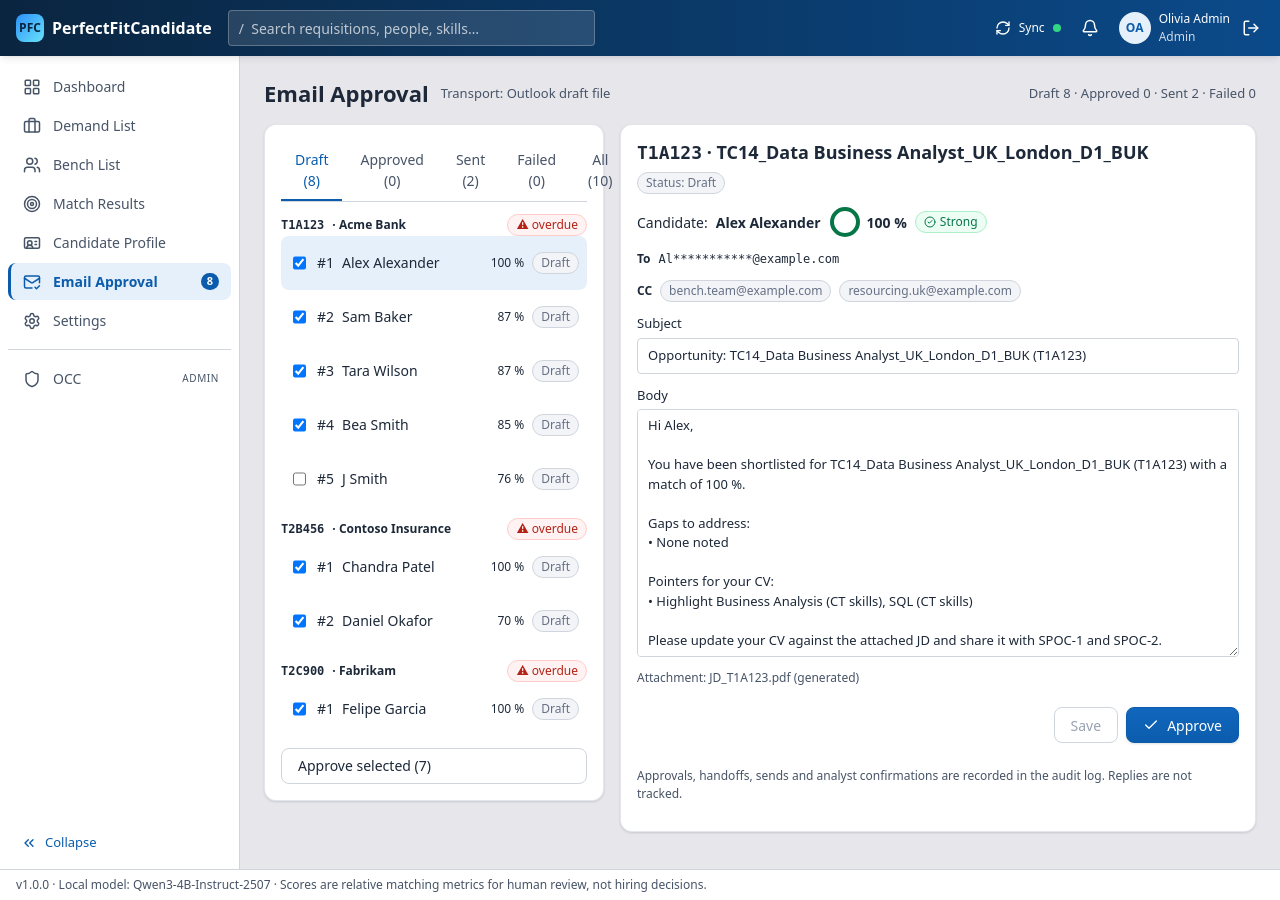
pages › pre-selects the top 4 of 5 and approves per profile (REQ-EML-01)
Expected: the button "Open in Outlook" is not shown
Click the button with aria-label "Approve email to".
click(1183, 725)  # box x1=1126 y1=707 x2=1239 y2=743
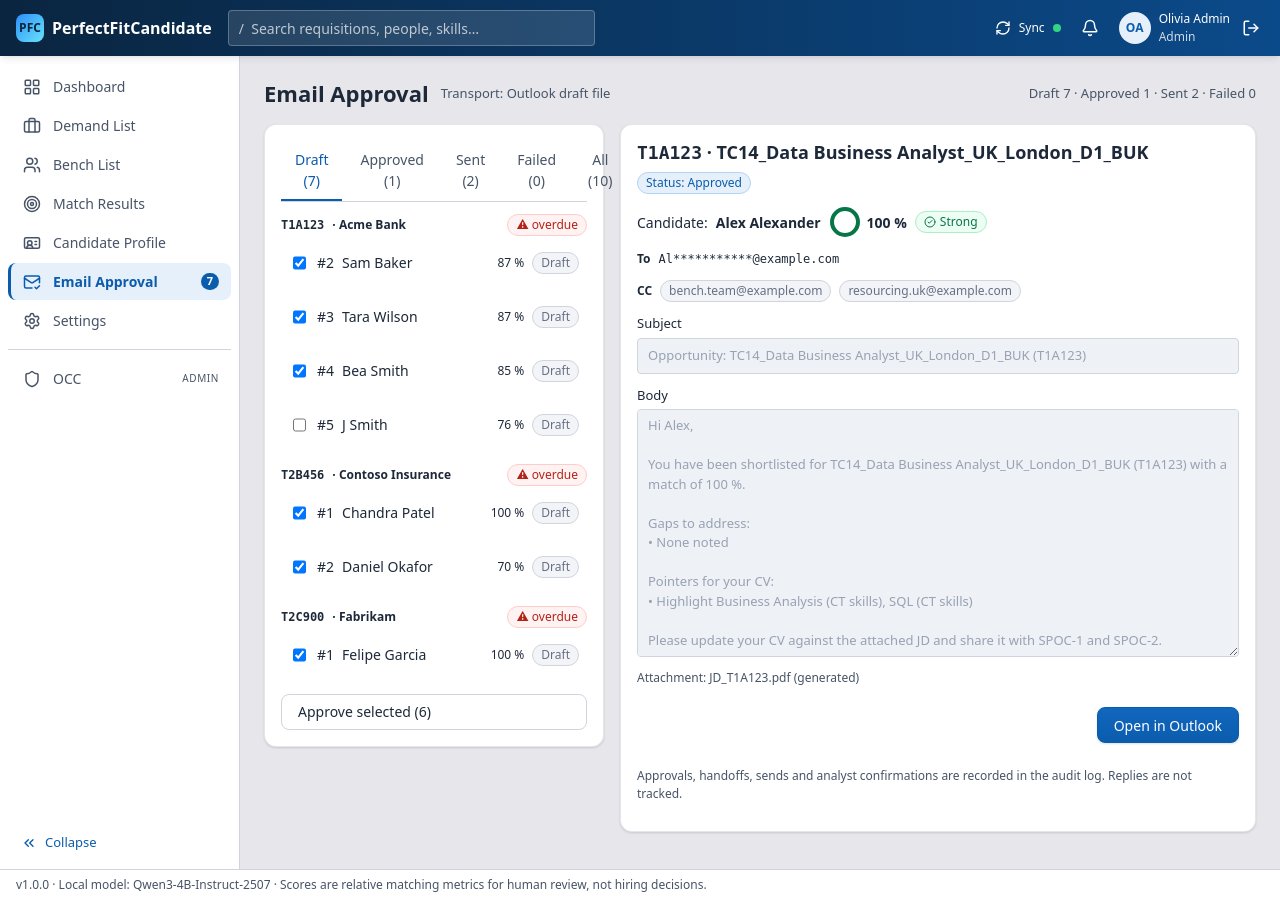
Now the text "Status: Approved" is shown, box x1=637 y1=172 x2=751 y2=194
Now the button "Open in Outlook" is shown, box x1=1097 y1=707 x2=1239 y2=743
